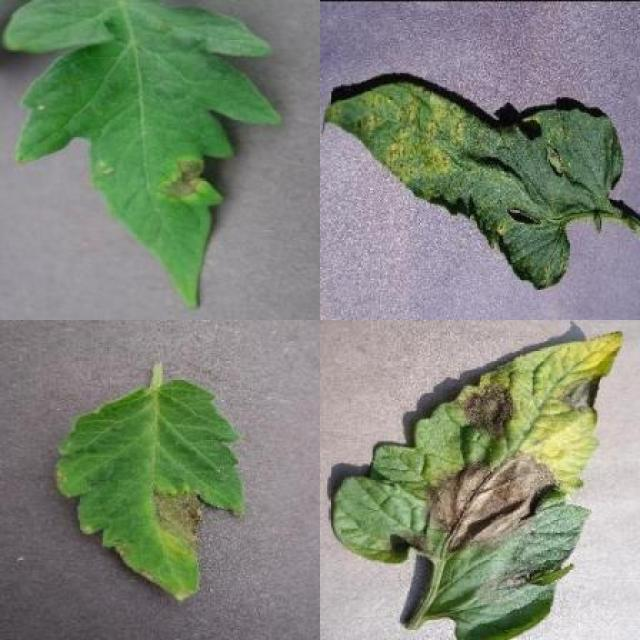Late Blight: (330, 327, 624, 640), (3, 0, 283, 311), (56, 378, 247, 602)
Septoria: (322, 80, 625, 290)
